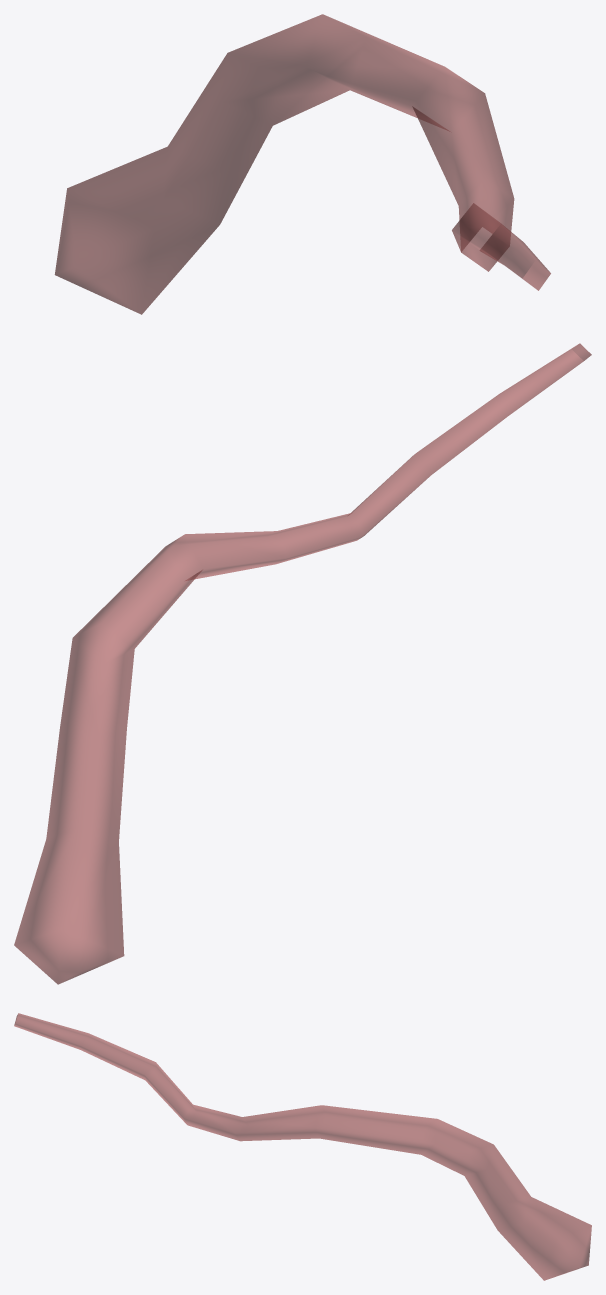
The model's file is SM_Tree_Bent_01_CC.fbx.
The picture shows the model from 3 angles, top to bottom: view 1: azimuth 30°, elevation 25°; view 2: azimuth 150°, elevation 25°; view 3: azimuth 270°, elevation 25°; orthographic projection. The views are drawn at different scales.
Visible parts, largest first — view 1: SM_Tree_Bent_01_CC; view 2: SM_Tree_Bent_01_CC; view 3: SM_Tree_Bent_01_CC.
Part boxes in pixels (<box>): SM_Tree_Bent_01_CC: <box>54,14,550,314</box>; SM_Tree_Bent_01_CC: <box>14,343,591,984</box>; SM_Tree_Bent_01_CC: <box>14,1013,591,1280</box>.
Bounding box in the file's own units: 211 × 363 × 807.
